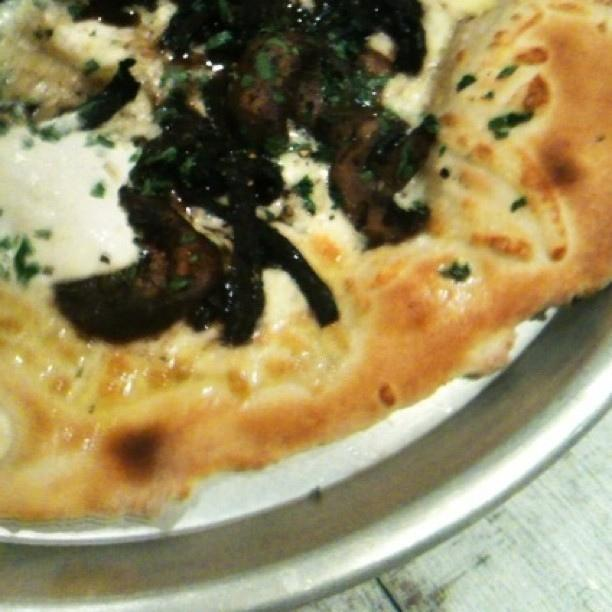mushroom: (54, 185, 226, 343), (328, 114, 439, 250), (290, 48, 383, 142), (223, 77, 289, 156), (260, 45, 302, 90)
